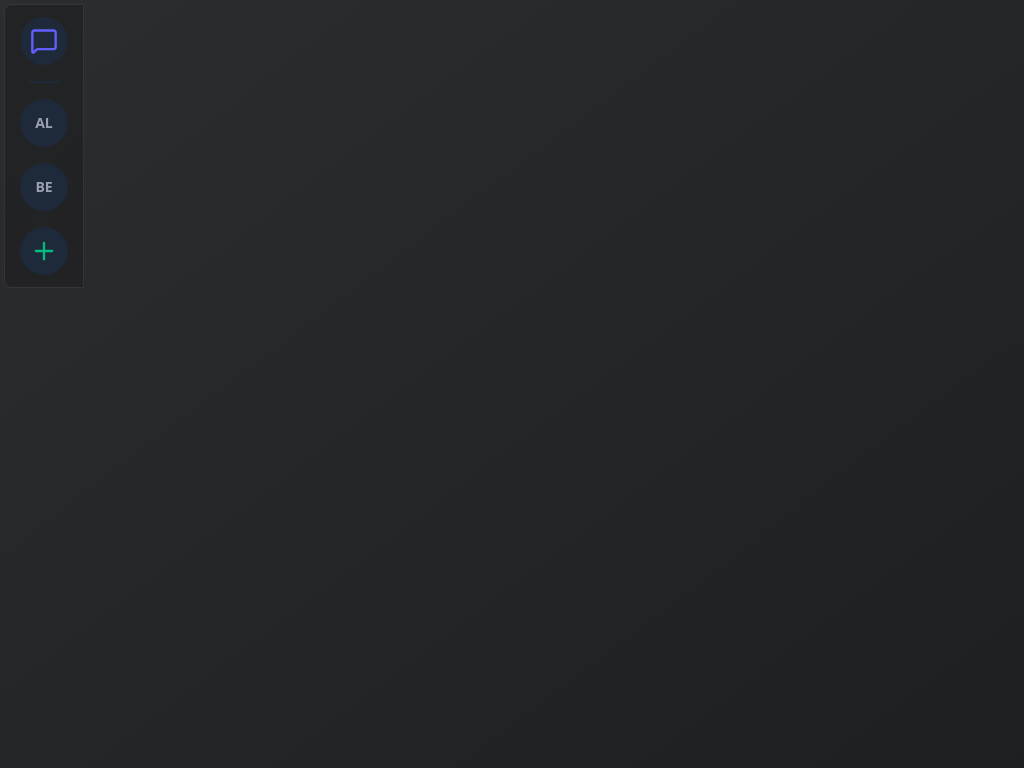
Sidebar Component › opens CreateGuildModal when Add Server button is clicked
The width and height of the screenshot is (1024, 768).
Click the element with test id "Plus".
click(44, 251)  # box [20,227,68,275]
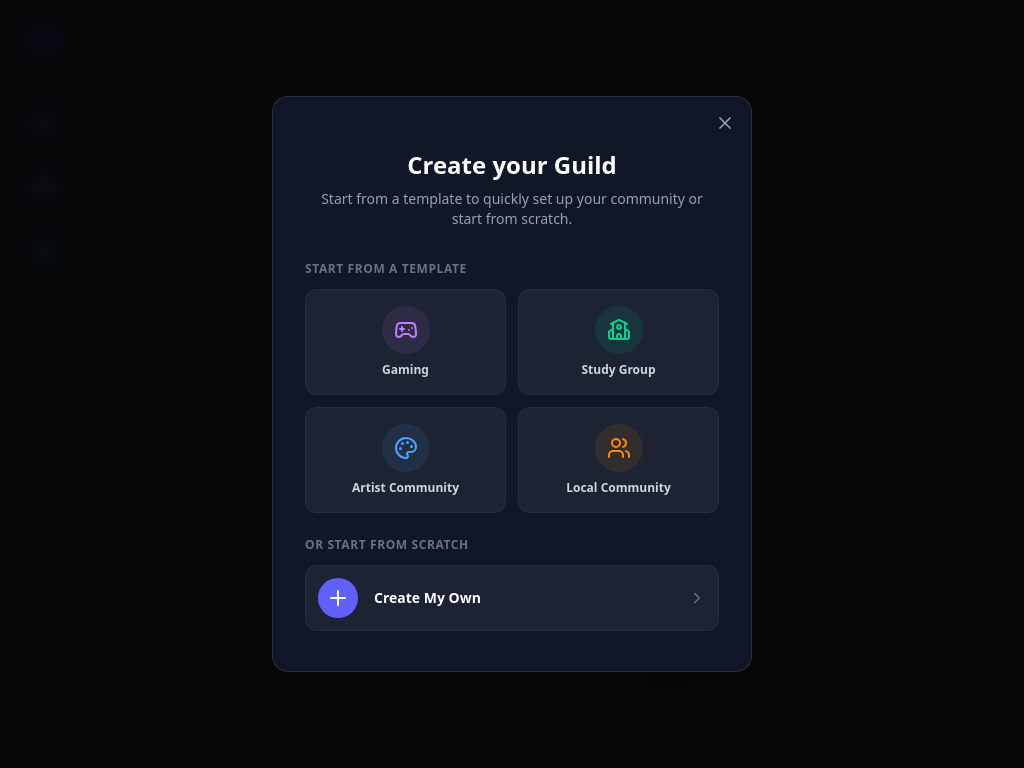
Check: the heading "Create your Guild" is shown, box [407,148,617,181]
